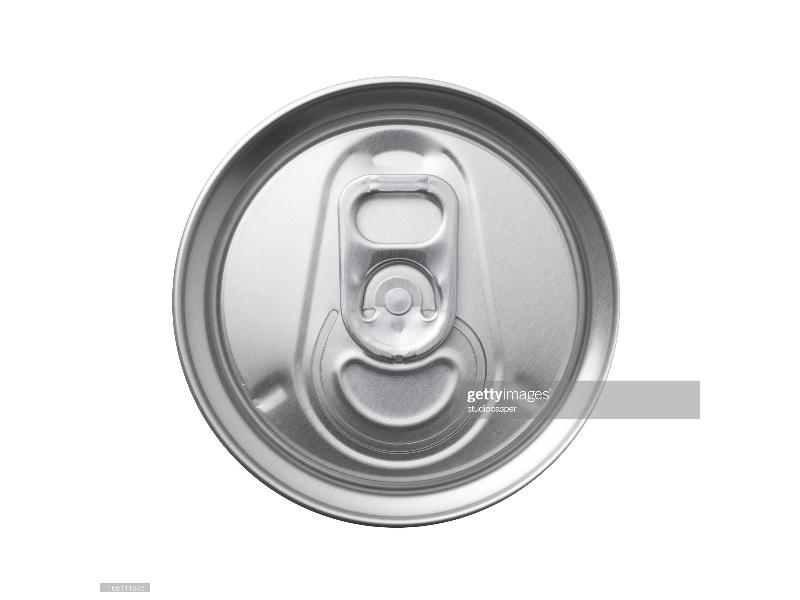can: (176, 78, 618, 523)
